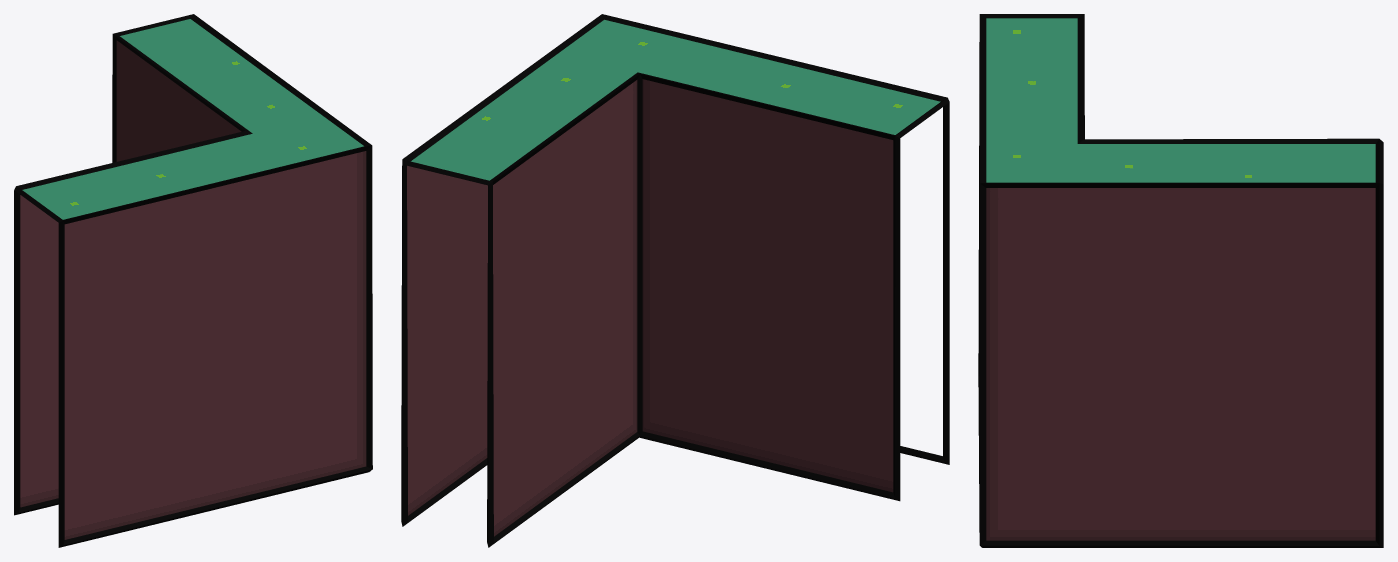
File: Pit_Main_Top_Down_Right.glb
3 renders of one model, left to right at view 1: azimuth 30°, elevation 25°; view 2: azimuth 150°, elevation 25°; view 3: azimuth 270°, elevation 25°, orthographic. The views are drawn at different scales.
Parts seen in each view (by area): view 1: Water_1_Pit_Main_Top_Down_Right; view 2: Water_1_Pit_Main_Top_Down_Right; view 3: Water_1_Pit_Main_Top_Down_Right.
Boxes of the visible parts, bbox=[...] form: Water_1_Pit_Main_Top_Down_Right: bbox=[14, 14, 372, 547]; Water_1_Pit_Main_Top_Down_Right: bbox=[401, 14, 949, 547]; Water_1_Pit_Main_Top_Down_Right: bbox=[978, 14, 1383, 547].
Size of the model in its own units: 1.02 by 1.02 by 1.02.
Materials: 4 (3 with a texture image).
